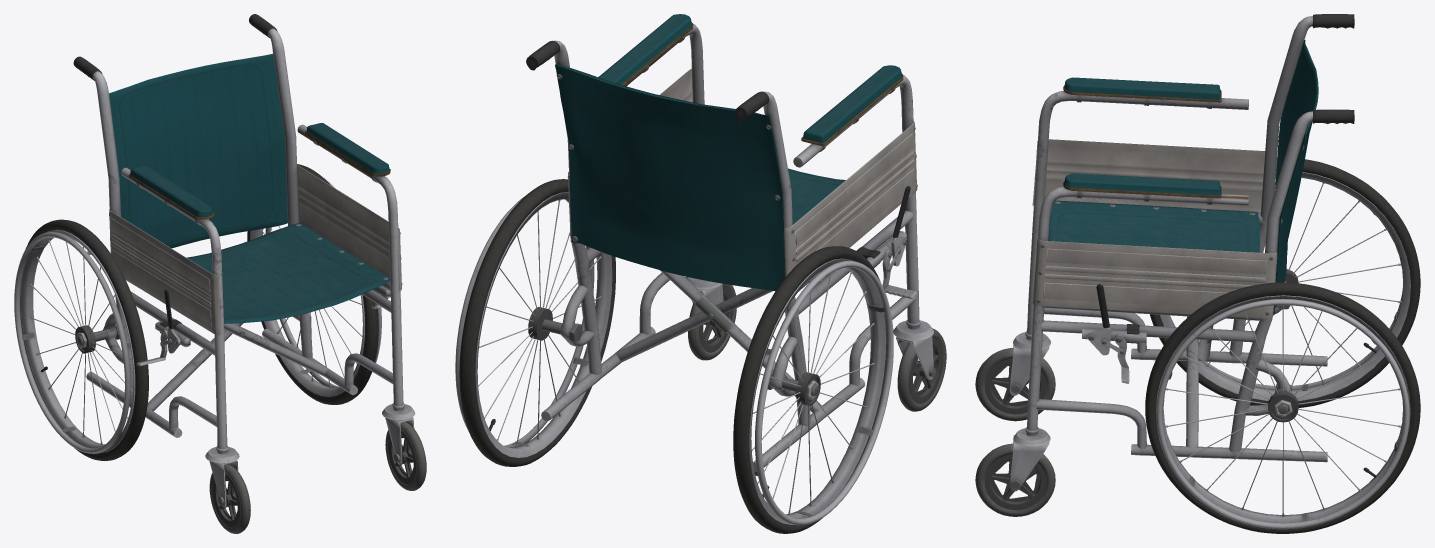
File: wheelchair_01.glb
3 views of the same model, side by side, from view 1: azimuth 30°, elevation 25°; view 2: azimuth 150°, elevation 25°; view 3: azimuth 270°, elevation 25° (orthographic). The views are drawn at different scales.
Parts seen in each view (by area): view 1: wheelchair_01; view 2: wheelchair_01; view 3: wheelchair_01.
Part boxes in pixels (x1,y1,x2,y2): wheelchair_01: (14,14,426,533); wheelchair_01: (455,14,946,533); wheelchair_01: (975,14,1420,533).
Bounding box in the file's own units: 0.8243 × 1.1 × 1.09.
Materials: 1 (1 with a texture image).
